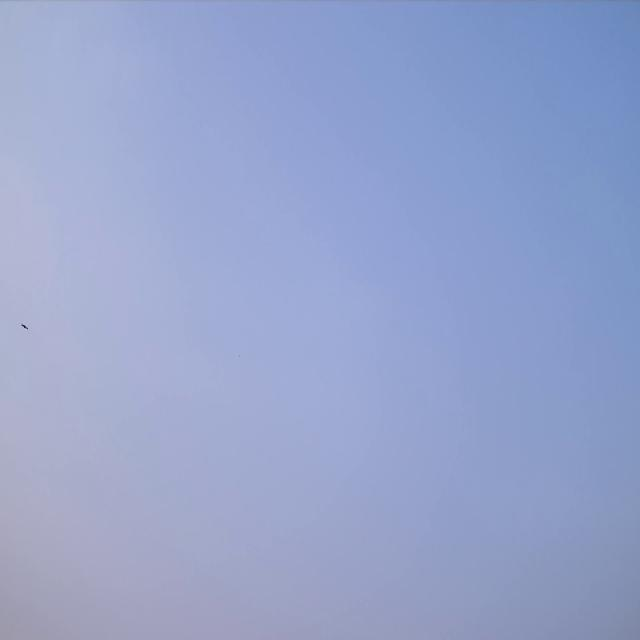UAV: (20, 322, 29, 330)
